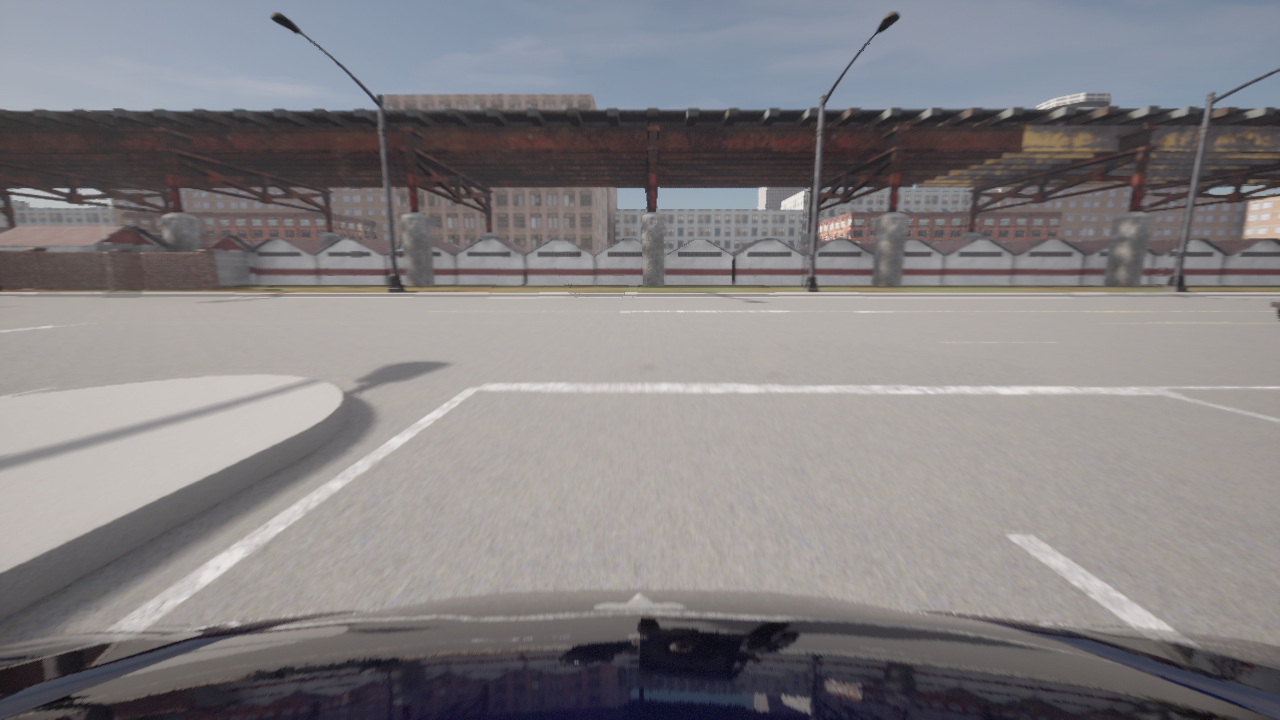cyclist: (0, 588, 1279, 719), (1270, 301, 1279, 321)
